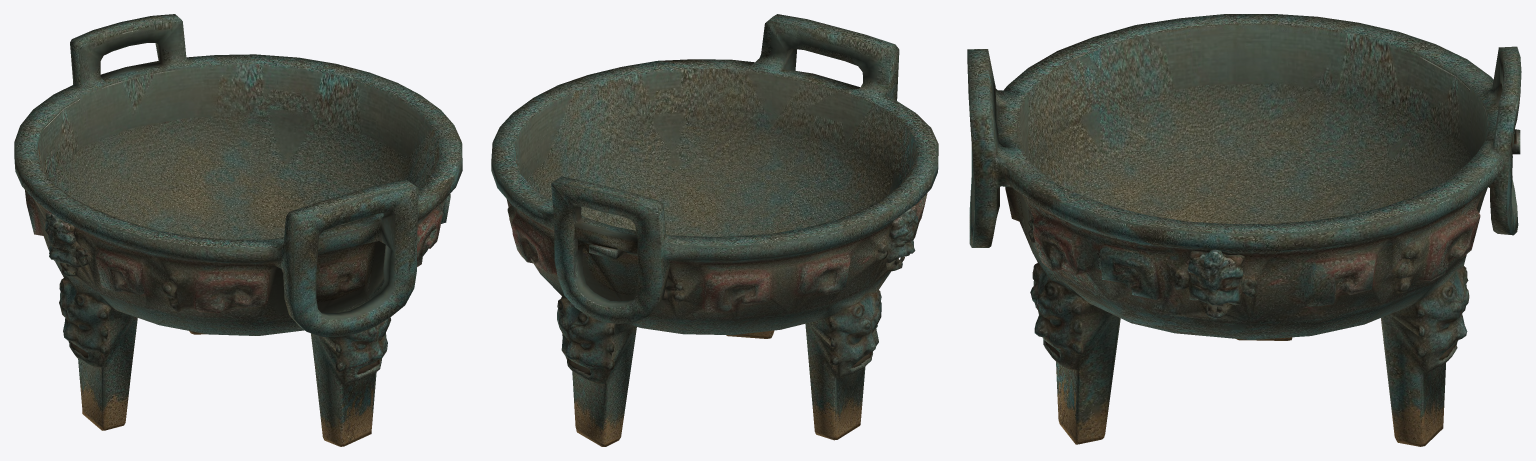
Rendered from tripo_convert_9b9719f1-c4ea-461f-9bea-dd2ca76adc1e.fbx.
3 renders of one model, left to right at view 1: azimuth 30°, elevation 25°; view 2: azimuth 150°, elevation 25°; view 3: azimuth 270°, elevation 25°, orthographic. The views are drawn at different scales.
Parts seen in each view (by area): view 1: tripo_node_9b9719f1; view 2: tripo_node_9b9719f1; view 3: tripo_node_9b9719f1.
Part boxes in pixels (<box>): tripo_node_9b9719f1: <box>14,14,462,446</box>; tripo_node_9b9719f1: <box>491,14,938,446</box>; tripo_node_9b9719f1: <box>967,14,1521,446</box>.
Bounding box in the file's own units: 0.9434 × 0.6738 × 0.998.
1 material, 1 textured.
